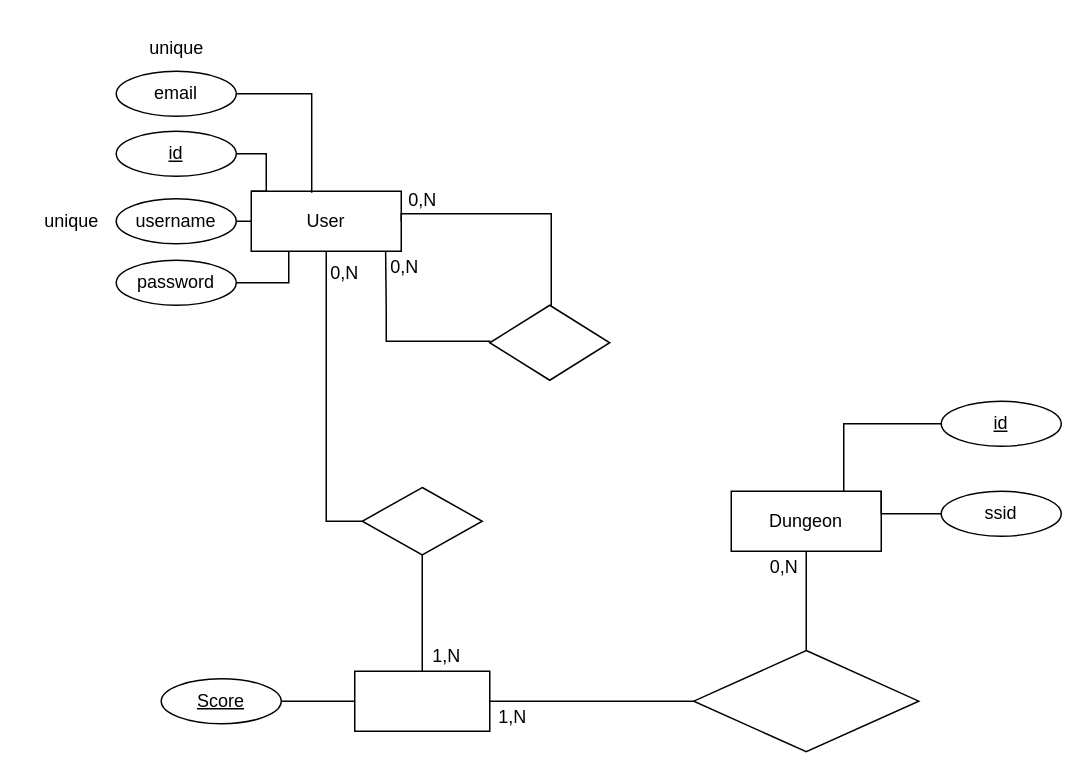
Image size: 1088x779. Some labels were removed from this diagram. The centre of each missing label's shape, as x and y in pixels:
"Friend" goes at pixel 549 342.
"Leaderboard" goes at pixel 421 700.
"leaderboard_dungeon" goes at pixel 805 700.
"take score" goes at pixel 421 520.
